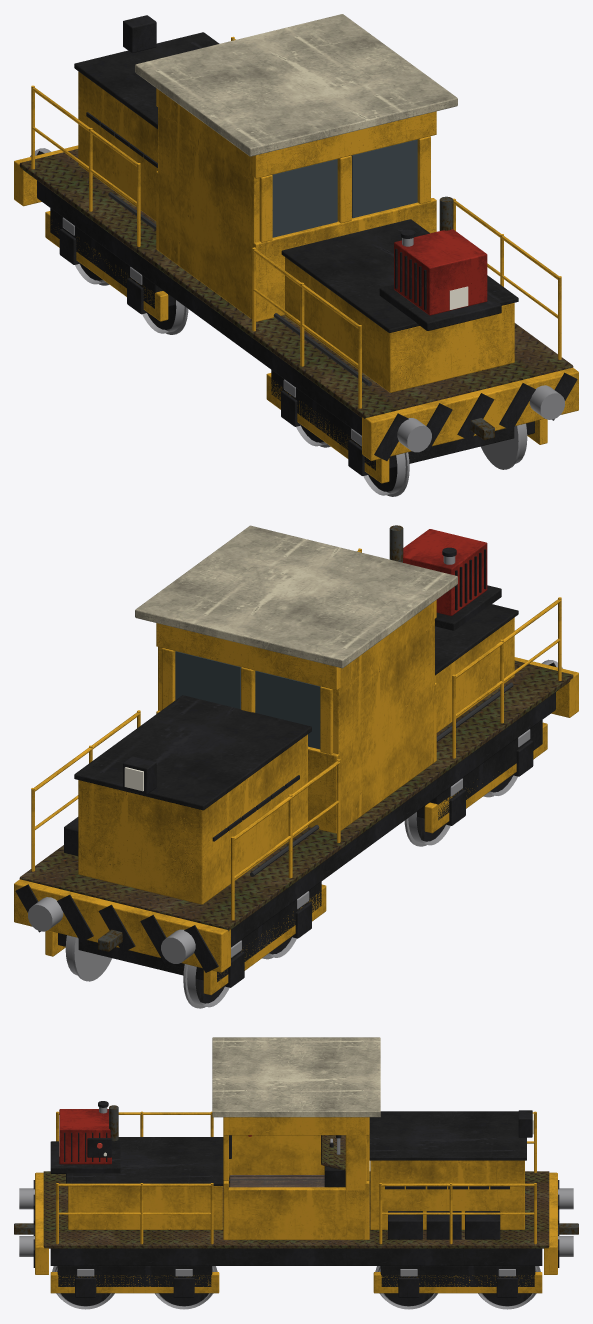
The model's file is electric_loco.glb.
3 renders of one model, top to bottom at view 1: azimuth 30°, elevation 25°; view 2: azimuth 150°, elevation 25°; view 3: azimuth 270°, elevation 25°, orthographic. The views are drawn at different scales.
Parts seen in each view (by area): view 1: Body, Bogie_R, Bogie_F, Wheel_R2R, Wheel_R2L, Wheel_F2L; view 2: Body, Bogie_F, Bogie_R, Wheel_F1R, Wheel_F1L, Wheel_R1L; view 3: Body, Bogie_F, Bogie_R, Wheel_F2R, Wheel_R1R, Wheel_F1R, Wheel_R2R.
Part boxes in pixels (x1,y1,x2,y2): Body: (14,14,578,460); Bogie_R: (266,370,547,483); Bogie_F: (45,208,175,321); Wheel_R2R: (481,423,527,469); Wheel_R2L: (363,452,409,496); Wheel_F2L: (142,300,188,334); Body: (14,525,578,972); Bogie_F: (45,881,326,994); Bogie_R: (417,720,547,833); Wheel_F1R: (65,935,111,981); Wheel_F1L: (183,964,229,1008); Wheel_R1L: (404,812,450,846); Body: (14,1037,578,1274); Bogie_F: (373,1266,542,1297); Bogie_R: (50,1266,219,1297); Wheel_F2R: (375,1266,437,1309); Wheel_R1R: (155,1266,217,1309); Wheel_F1R: (478,1266,540,1309); Wheel_R2R: (52,1266,114,1309).
Size of the model in its own units: 2.5 by 3.37 by 8.04.
13 materials, 7 textured.
